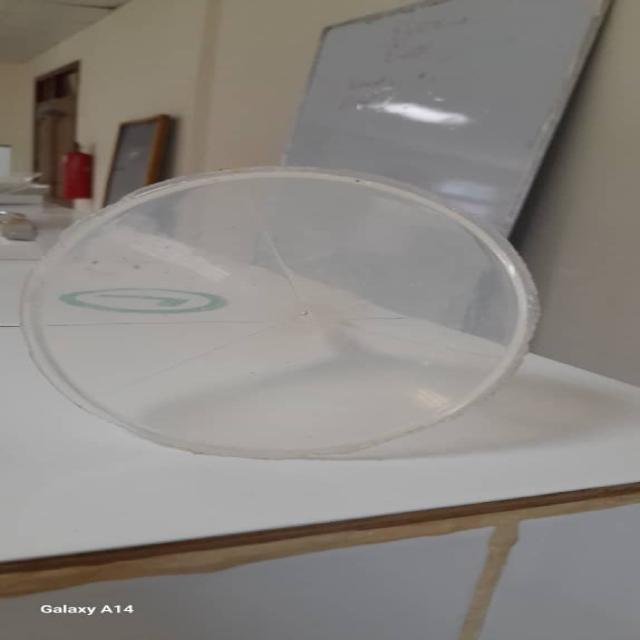Funnel: (18, 169, 552, 452)
